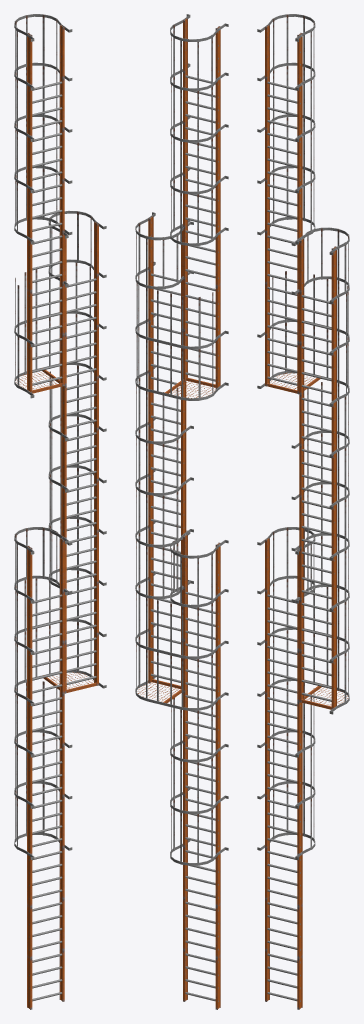
The model's file is LadderSection.004.fbx.
3 views of the same model, side by side, from view 1: azimuth 30°, elevation 25°; view 2: azimuth 150°, elevation 25°; view 3: azimuth 330°, elevation 25° (orthographic).
Parts seen in each view (by area): view 1: Ladder_Section.004_LOD0; view 2: Ladder_Section.004_LOD0; view 3: Ladder_Section.004_LOD0.
Part boxes in pixels (x1=…): Ladder_Section.004_LOD0: x1=14, y1=14, x2=106, y2=1009; Ladder_Section.004_LOD0: x1=135, y1=14, x2=228, y2=1009; Ladder_Section.004_LOD0: x1=257, y1=14, x2=349, y2=1009.
Size of what is drawn, in the model's own units: 1.55 by 19 by 0.9238.
